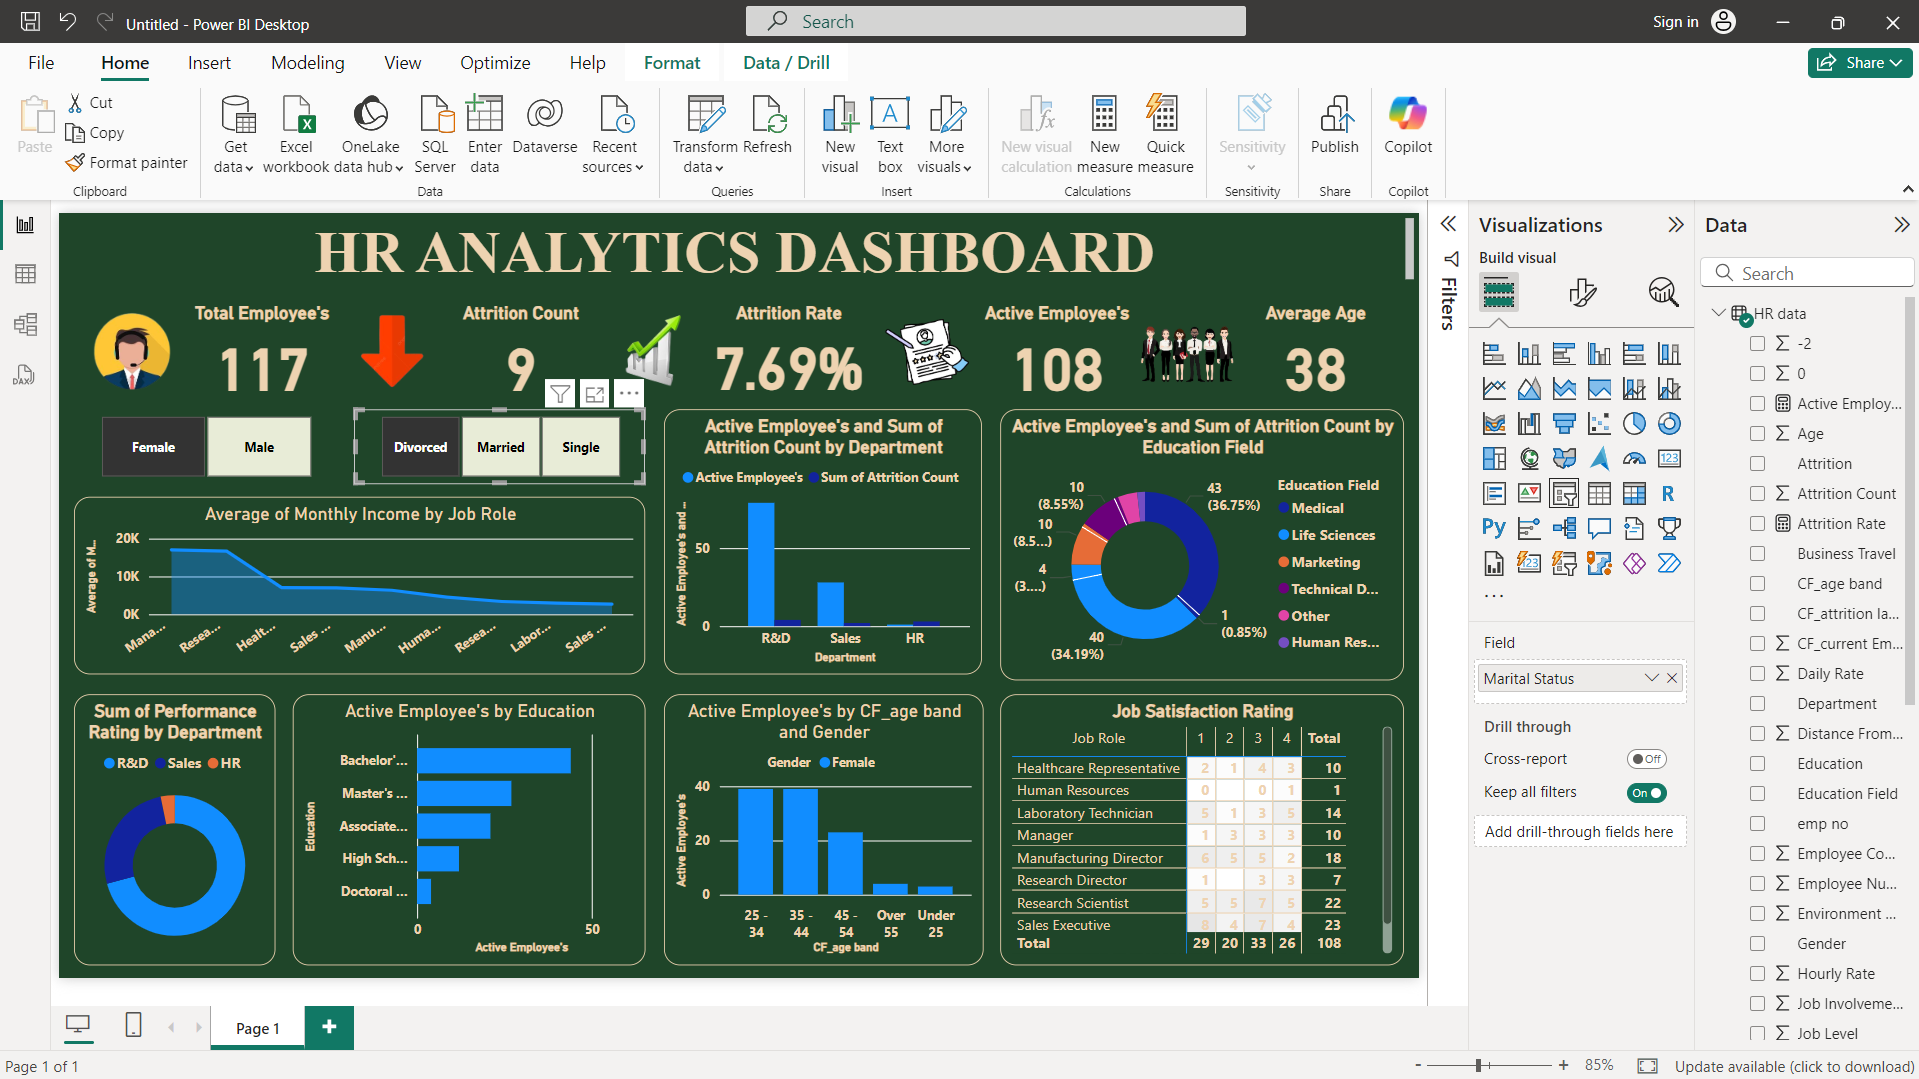

The page's visual inventory and layout, read from the dashboard file:
{"tool":"powerbi","page":{"name":"Page 1","canvas":[1280,720],"ordinal":0},"visuals":[{"type":"card","title":"Total Employee''s","fields":{"Values":["Sum(HR data.Employee Count)"]},"box":[108.2,83.1,166,94.7],"z":0},{"type":"clusteredColumnChart","fields":{"Category":["HR data.Department"],"Y":["HR data.Active Employee's","Sum(HR data.Attrition Count)"]},"box":[569.5,185.2,299.1,249.7],"z":0},{"type":"card","title":"Average Age","fields":{"Values":["Avg(HR data.Age)"]},"box":[1100.5,83.1,166,94.7],"z":1000},{"type":"donutChart","fields":{"Y":["HR data.Active Employee's","Sum(HR data.Attrition Count)"],"Category":["HR data.Education Field"]},"box":[886.5,185.2,380.1,255.2],"z":1000},{"type":"card","title":"Active Employee''s","fields":{"Values":["HR data.Active Employee's"]},"box":[856.8,83.1,166,94.7],"z":2000},{"type":"columnChart","fields":{"Y":["HR data.Active Employee's"],"Category":["HR data.CF_age band"],"Series":["HR data.Gender"]},"box":[569.5,452.8,300.5,255.2],"z":2000},{"type":"card","title":"Attrition Rate","fields":{"Values":["HR data.Attrition Rate"]},"box":[595.7,83.4,183.5,94.1],"z":3000},{"type":"pivotTable","title":"Job Satisfaction Rating","fields":{"Rows":["HR data.Job Role"],"Columns":["HR data.Job Satisfaction"],"Values":["HR data.Active Employee's"]},"box":[886.5,452.8,380.1,255.2],"z":3000},{"type":"card","title":"Attrition Count","fields":{"Values":["Sum(HR data.Attrition Count)"]},"box":[351.9,83.1,166,94.7],"z":4000},{"type":"donutChart","fields":{"Y":["Sum(HR data.Performance Rating)"],"Category":["HR data.Department"]},"box":[13.7,452.8,189.4,255.2],"z":4000},{"type":"clusteredBarChart","fields":{"Category":["HR data.Education"],"Y":["HR data.Active Employee's"]},"box":[219.6,452.8,332.1,255.2],"z":5000},{"type":"areaChart","fields":{"Category":["HR data.Job Role"],"Y":["Avg(HR data.Monthly Income)"]},"box":[13.7,267.6,537.9,167.4],"z":6000},{"type":"slicer","fields":{"Values":["HR data.Gender"]},"box":[13.7,185.2,247,70],"z":7000},{"type":"slicer","fields":{"Values":["HR data.Marital Status"]},"box":[277.2,185.2,274.4,70],"z":8000},{"type":"image","box":[768,79.9,100,101.2],"z":10000},{"type":"image","box":[263,80.4,100.2,100.2],"z":11000},{"type":"image","box":[1011.6,80.4,100.2,100.2],"z":12000},{"type":"image","box":[506.7,80.4,100.2,100.2],"z":13000},{"type":"image","box":[19.2,80.4,100.2,100.2],"z":14000},{"type":"textbox","box":[0,0,1280.3,78.2],"z":15000}]}

Visuals, with their boxes on the page's 1280x720 design canvas (x1, y1, x2, y2). These are canvas units, not pixel positions in the 1919x1079 screenshot, which may show the page scaled, cropped or inside an application window:
"Total Employee''s" card: 108:83:274:178
clusteredColumnChart - HR data.Department x HR data.Active Employee's: 570:185:869:435
"Average Age" card: 1100:83:1266:178
donutChart - HR data.Active Employee's x Sum(HR data.Attrition Count): 886:185:1267:440
"Active Employee''s" card: 857:83:1023:178
columnChart - HR data.Active Employee's x HR data.CF_age band: 570:453:870:708
"Attrition Rate" card: 596:83:779:178
"Job Satisfaction Rating" pivotTable: 886:453:1267:708
"Attrition Count" card: 352:83:518:178
donutChart - Sum(HR data.Performance Rating) x HR data.Department: 14:453:203:708
clusteredBarChart - HR data.Education x HR data.Active Employee's: 220:453:552:708
areaChart - HR data.Job Role x Avg(HR data.Monthly Income): 14:268:552:435
slicer - HR data.Gender: 14:185:261:255
slicer - HR data.Marital Status: 277:185:552:255
image: 768:80:868:181
image: 263:80:363:181
image: 1012:80:1112:181
image: 507:80:607:181
image: 19:80:119:181
textbox: 0:0:1280:78
